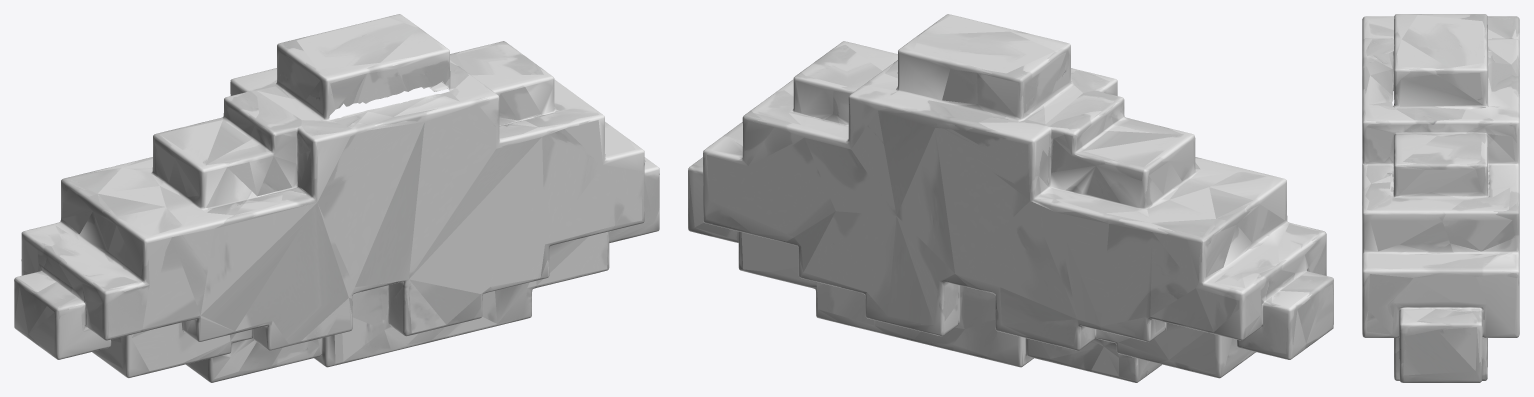
The model's file is nube4.glb.
3 renders of one model, left to right at view 1: azimuth 30°, elevation 25°; view 2: azimuth 150°, elevation 25°; view 3: azimuth 270°, elevation 25°, orthographic. The views are drawn at different scales.
Visible parts, largest first — view 1: Mesh_0.014; view 2: Mesh_0.014; view 3: Mesh_0.014.
Boxes of the visible parts, bbox=[...] form: Mesh_0.014: bbox=[14, 14, 659, 382]; Mesh_0.014: bbox=[688, 14, 1333, 382]; Mesh_0.014: bbox=[1362, 14, 1519, 382].
Bounding box in the file's own units: 190 × 86.96 × 46.37.
1 material, 1 textured.
